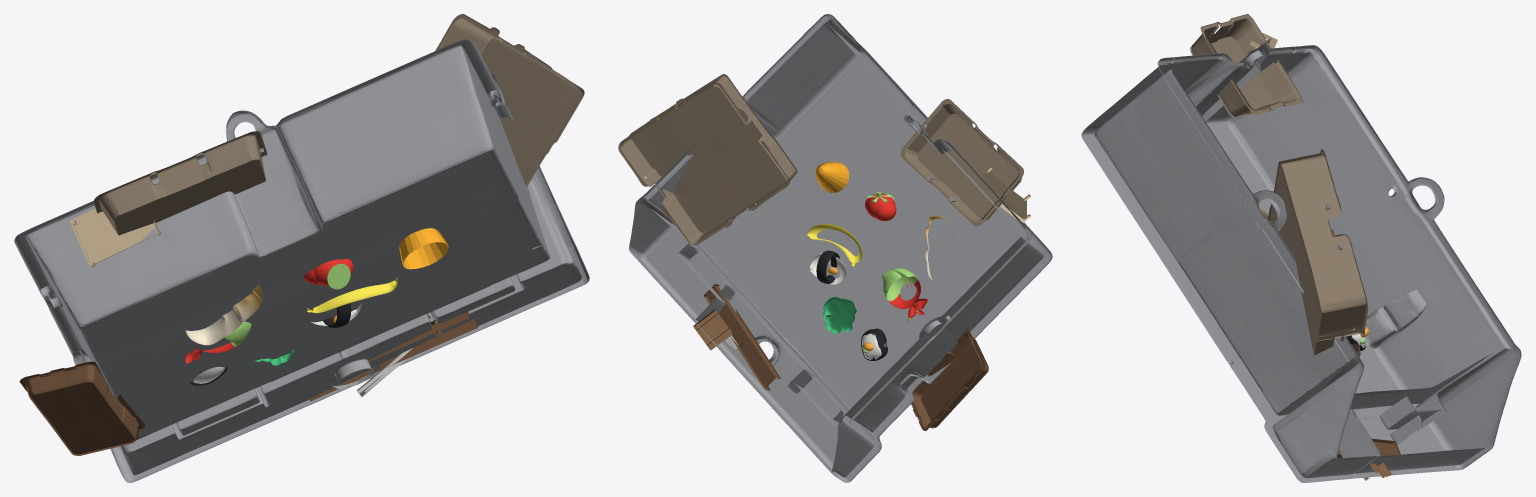
Rendered from viga.glb.
3 renders of one model, left to right at view 1: azimuth 30°, elevation 25°; view 2: azimuth 150°, elevation 25°; view 3: azimuth 270°, elevation 25°, orthographic. The views are drawn at different scales.
Parts seen in each view (by area): view 1: gray_plastic_bin_mesh, cardboard_sheet_mesh, cardboard_box_flap_mesh, wooden_table_mesh, light_wooden_board_mesh, wooden_table_edge_mesh, toy_bread_loaf_mesh, orange_toy_carrot_mesh, yellow_toy_banana_mesh, red_toy_tomato_mesh; view 2: gray_plastic_bin_mesh, cardboard_sheet_mesh, cardboard_box_flap_mesh, wooden_table_mesh, wooden_table_edge_mesh, red_toy_tomato_mesh, green_toy_broccoli_mesh, light_wooden_board_mesh, wooden_plank_corner_mesh, orange_toy_carrot_mesh, yellow_toy_banana_mesh, GEN_nori_nigiri_band; view 3: gray_plastic_bin_mesh, cardboard_sheet_mesh, cardboard_box_flap_mesh.
Part boxes in pixels (left/top/right/bottom): gray_plastic_bin_mesh: left=14, top=39, right=589, bottom=482; cardboard_sheet_mesh: left=435, top=14, right=584, bottom=187; cardboard_box_flap_mesh: left=93, top=131, right=267, bottom=235; wooden_table_mesh: left=19, top=361, right=144, bottom=455; light_wooden_board_mesh: left=69, top=208, right=161, bottom=267; wooden_table_edge_mesh: left=309, top=312, right=477, bottom=401; toy_bread_loaf_mesh: left=185, top=284, right=262, bottom=345; orange_toy_carrot_mesh: left=399, top=228, right=448, bottom=269; yellow_toy_banana_mesh: left=307, top=277, right=397, bottom=313; red_toy_tomato_mesh: left=185, top=321, right=251, bottom=363; gray_plastic_bin_mesh: left=629, top=14, right=1052, bottom=482; cardboard_sheet_mesh: left=618, top=74, right=797, bottom=245; cardboard_box_flap_mesh: left=900, top=99, right=1023, bottom=226; wooden_table_mesh: left=911, top=329, right=988, bottom=430; wooden_table_edge_mesh: left=703, top=284, right=780, bottom=390; red_toy_tomato_mesh: left=882, top=268, right=928, bottom=321; green_toy_broccoli_mesh: left=823, top=297, right=856, bottom=333; light_wooden_board_mesh: left=982, top=166, right=1030, bottom=222; wooden_plank_corner_mesh: left=693, top=309, right=733, bottom=350; orange_toy_carrot_mesh: left=815, top=161, right=849, bottom=192; yellow_toy_banana_mesh: left=807, top=224, right=862, bottom=266; GEN_nori_nigiri_band: left=816, top=250, right=839, bottom=283; gray_plastic_bin_mesh: left=1081, top=43, right=1521, bottom=482; cardboard_sheet_mesh: left=1268, top=149, right=1367, bottom=357; cardboard_box_flap_mesh: left=1190, top=14, right=1302, bottom=118.
Size of the model in its own units: 2.69 by 2.3 by 1.86.
29 materials, 1 textured.
